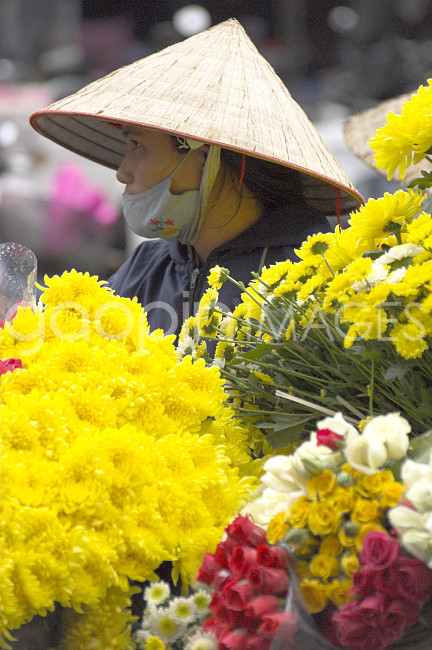face_mask: (115, 89, 196, 243)
